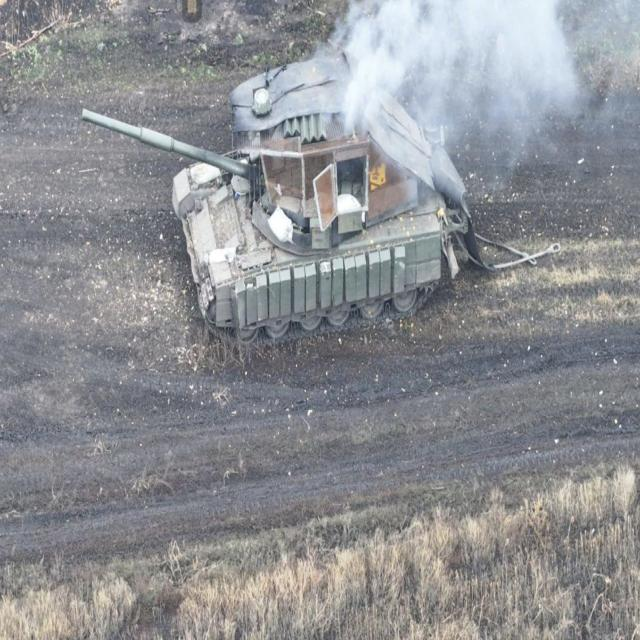vehicle: (80, 62, 560, 340)
